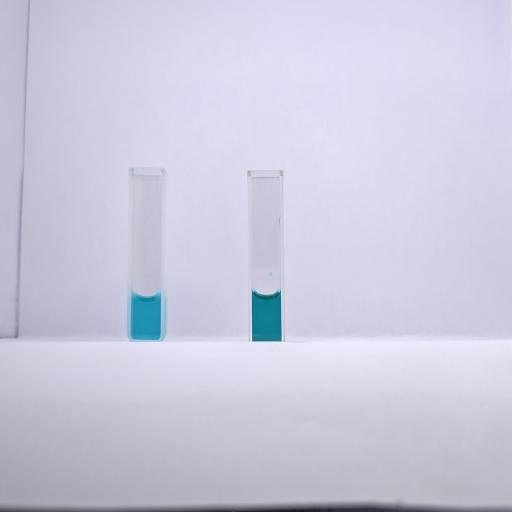cuvette: (246, 168, 284, 346), (128, 165, 166, 342)
liquid: (252, 290, 282, 341), (131, 294, 161, 339)
